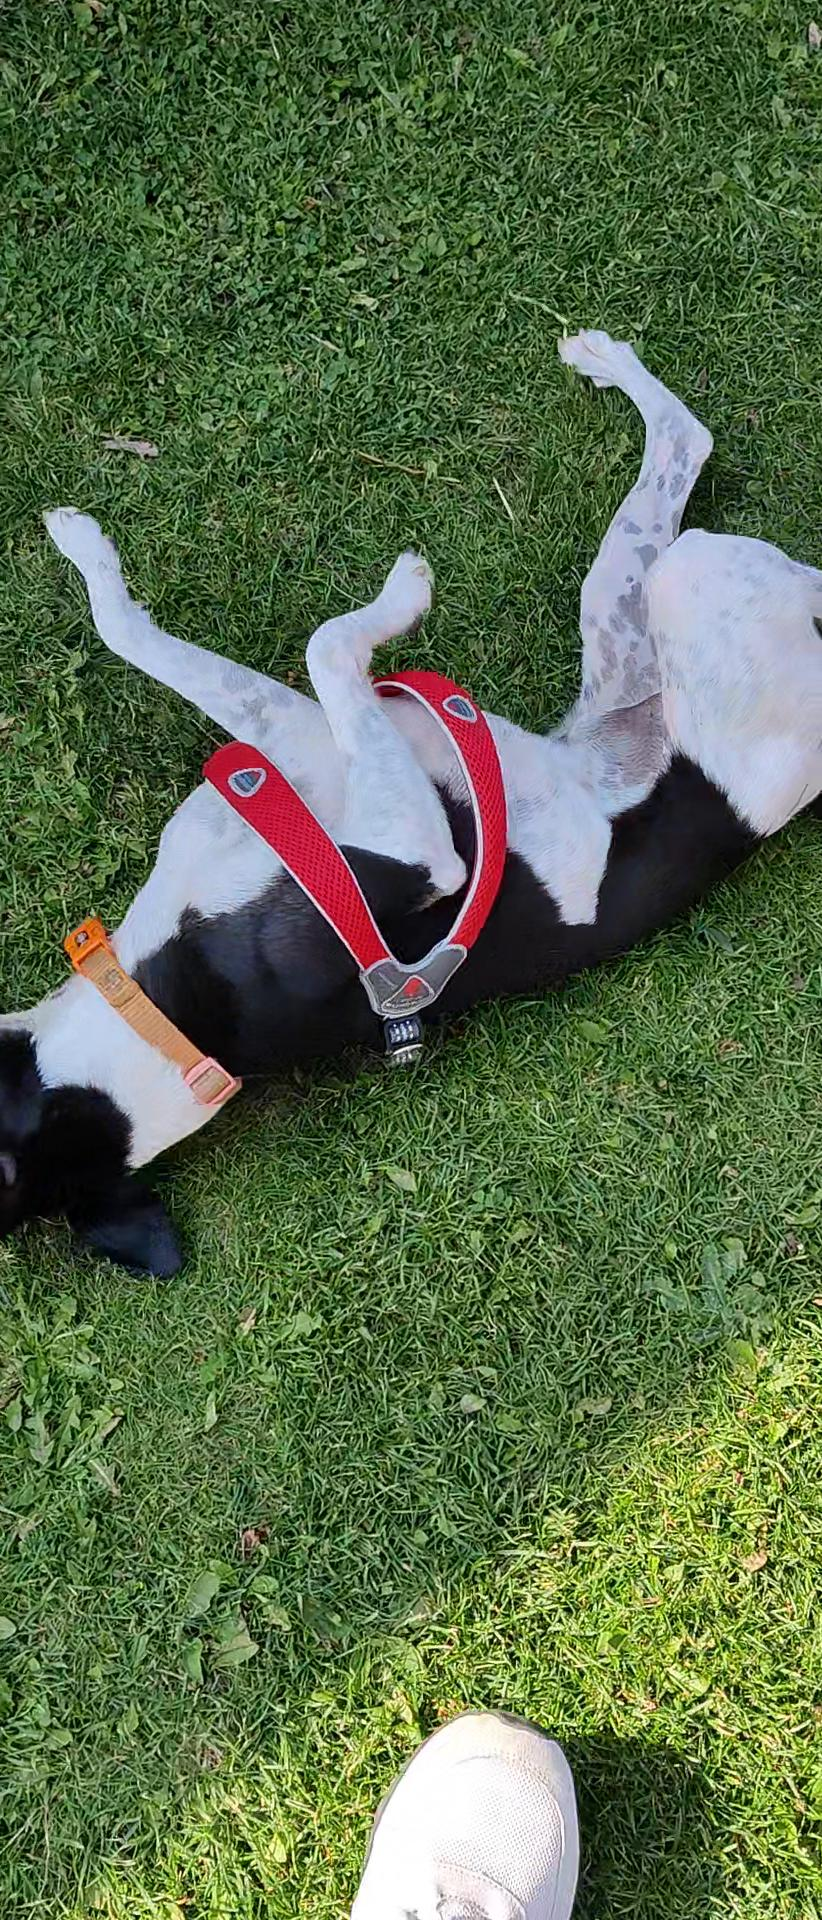Dog: (0, 320, 821, 1302)
